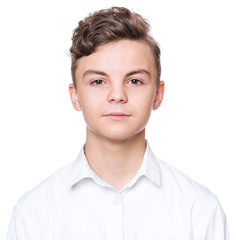teen: (62, 11, 164, 145)
